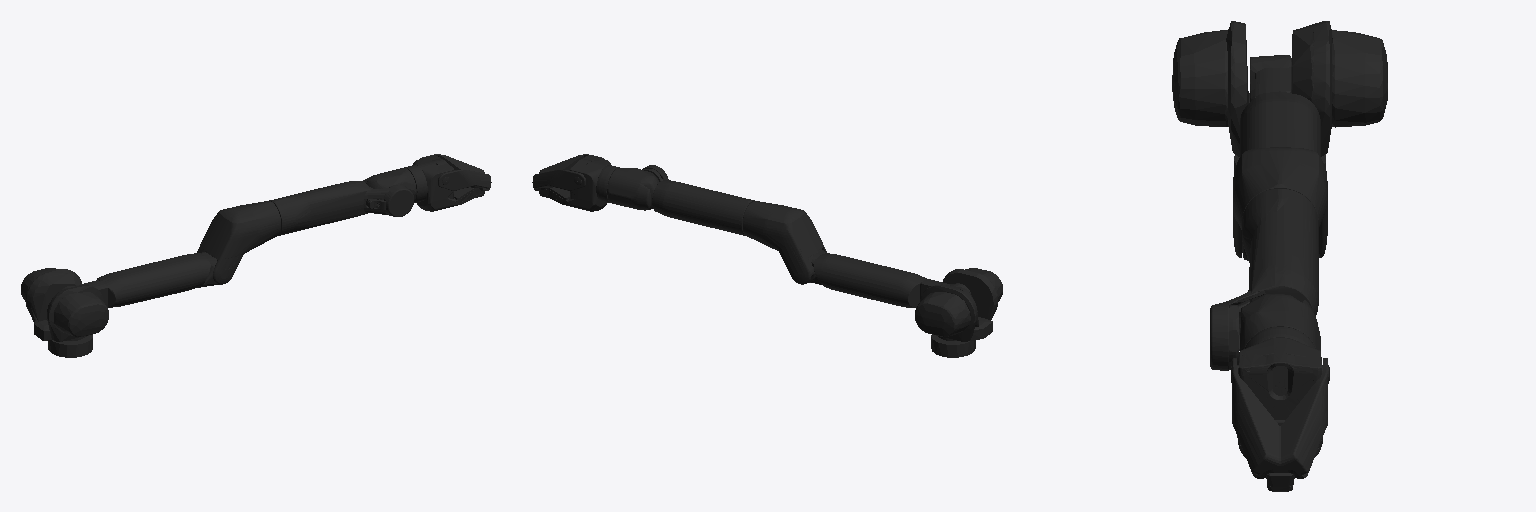
The robot description file, URDF, robot "spot_arm":
<?xml version="1.0"?>
<robot name="spot_arm">
  <link name="arm_link_sh0">
    <visual>
      <origin xyz="0 0 0" rpy="0 0 0"/>
      <geometry>
        <mesh filename="package://aerial_grasping/assets/spot/visual/arm_link_sh0.obj"/>
      </geometry>
      <material name="arm_link_sh0"> <color rgba="0.2 0.2 0.2 1"/></material>  
    </visual>
    <collision>
      <geometry>
        <mesh filename="package://aerial_grasping/assets/spot/collision/arm_link_sh0_base.obj" />
      </geometry>
    </collision>
    <collision>
      <geometry>
        <mesh filename="package://aerial_grasping/assets/spot/collision/arm_link_sh0_left_motor.obj" />
      </geometry>
    </collision>
    <collision>
      <geometry>
        <mesh filename="package://aerial_grasping/assets/spot/collision/arm_link_sh0_right_motor.obj" />
      </geometry>
    </collision>
    <inertial>
      <origin rpy="0.0013490340912847287 -0.15433618253071657 0.0066354181456347305" xyz="-0.012372709810733795 -4.5211403630673885e-05 -0.02103196457028389"/>
      <mass value="2.3364000000000003"/>
      <inertia ixx="0.009014303010689815" ixy="0.0" ixz="0.0" iyy="0.005835102417829581" iyz="0.0" izz="0.00778747846359954"/>
    </inertial>
  </link>
  <!-- <joint name="arm_sh0" type="revolute">
    <origin xyz="0.292 0.0 0.188" rpy="0 0 0"/>
    <axis xyz="0 0 1"/>
    <parent link="body"/>
    <child link="arm_link_sh0"/>
    <limit effort="1000" velocity="1000.00" lower="-2.61799387799149441136" upper="3.14159265358979311599"/>
  </joint> -->

  <link name="arm_link_sh1">
    <visual>
      <origin xyz="0 0 0" rpy="0 0 0"/>
      <geometry>
        <mesh filename="package://aerial_grasping/assets/spot/visual/arm_link_sh1.obj"/>
      </geometry>
      <material name="arm_link_sh1"> <color rgba="0.2 0.2 0.2 1"/></material>
    </visual>
    <inertial>
      <origin rpy="0.009910032200701302 -0.5123007314267984 0.002209016500439809" xyz="2.4176391889341176e-05 2.4116111490002368e-06 -1.0059113265015185e-05"/>
      <mass value="0.2596"/>
      <inertia ixx="0.00020292766231464653" ixy="0.0" ixz="0.0" iyy="0.00017078637725384855" iyz="0.0" izz="0.00020384964230406682"/>
    </inertial>
  </link>
  <joint name="arm_sh1" type="revolute">
    <origin xyz="0.0 0.0 0.0" rpy="0 0 0"/>
    <axis xyz="0 1 0"/>
    <parent link="arm_link_sh0"/>
    <child link="arm_link_sh1"/>
    <!-- <limit effort="1000" velocity="1000.00" lower="-0.52359877559829881565" upper="3.14159265358979311599"/> -->
    <limit effort="1000" velocity="1000.00" lower="-3.14159265358979311599" upper="0.52359877559829881565"/>
  </joint>
  
  <link name="arm_link_hr0">
    <visual>
      <origin xyz="0 0 0" rpy="0 0 0"/>
      <geometry>
        <mesh filename="package://aerial_grasping/assets/spot/visual/arm_link_hr0.obj"/>
      </geometry>
      <material name="arm_link_hr0"> <color rgba="0.2 0.2 0.2 1"/></material> 
    </visual>
    <collision>
      <geometry>
        <mesh filename="package://aerial_grasping/assets/spot/collision/arm_link_hr0.obj" />
      </geometry>
    </collision>
    <inertial>
      <origin rpy="-0.01179850657706405 0.0002834144901480151 -0.02372295500868482" xyz="0.17047011852264404 -0.0019251034827902913 4.483893280848861e-05"/>
      <mass value="1e-06"/>
      <inertia ixx="6.312631747339145e-10" ixy="0.0" ixz="0.0" iyy="1.1487063558949979e-08" iyz="0.0" izz="1.161105128440526e-08"/>
    </inertial>
  </link>
  <joint name="arm_hr0" type="fixed">
    <origin xyz="0.0 0.0 0.0" rpy="0 0 0"/>
    <axis xyz="1 0 0"/>
    <parent link="arm_link_sh1"/>
    <child link="arm_link_hr0"/>
    <limit effort="1000" velocity="1000.00" lower="-1e6" upper="1e6"/>
  </joint>

  <link name="arm_link_el0">
    <visual>
      <origin xyz="0 0 0" rpy="0 0 0"/>
      <geometry>
        <mesh filename="package://aerial_grasping/assets/spot/visual/arm_link_el0.obj"/>
      </geometry>
      <material name="arm_link_el0"> <color rgba="0.2 0.2 0.2 1"/></material>  
    </visual>
    <collision>
      <geometry>
        <mesh filename="package://aerial_grasping/assets/spot/collision/arm_link_el0.obj" />
      </geometry>
    </collision>
    <inertial>
      <origin rpy="-0.004185887288594259 -0.6136269547775202 -0.0004619387581783485" xyz="0.0553741455078125 0.00023603376757819206 0.04827198013663292"/>
      <mass value="0.725"/>
      <inertia ixx="0.0008215365829160558" ixy="0.0" ixz="0.0" iyy="0.0020047889807066404" iyz="0.0" izz="0.0019722797759789395"/>
    </inertial>
  </link>
  <joint name="arm_el0" type="revolute">
    <origin xyz="0.3385 0 0" rpy="0 0 0"/>
    <axis xyz="0 1 0"/>
    <parent link="arm_link_hr0"/>
    <child link="arm_link_el0"/>
    <limit effort="1000" velocity="1000.00" lower="0" upper="3.14159265358979311599"/>
  </joint>

  <link name="arm_link_el1">
    <visual>
      <origin xyz="0 0 0" rpy="0 0 0"/>
      <geometry>
        <mesh filename="package://aerial_grasping/assets/spot/visual/arm_link_el1.obj"/>
      </geometry>
      <material name="arm_link_el1"> <color rgba="0.2 0.2 0.2 1"/></material>
    </visual>
    <collision>
      <geometry>
        <mesh filename="package://aerial_grasping/assets/spot/collision/arm_link_el1_main.obj" />
      </geometry>
    </collision>
    <collision>
      <geometry>
        <mesh filename="package://aerial_grasping/assets/spot/collision/arm_link_el1_lip.obj" />
      </geometry>
    </collision>
    <inertial>
      <origin rpy="-0.15027374227250867 -0.0007874585461915551 0.003728225436950172" xyz="-0.1257835328578949 -0.013684478588402271 0.00010157923679798841"/>
      <mass value="0.725"/>
      <inertia ixx="0.0006254807525240598" ixy="0.0" ixz="0.0" iyy="0.004402454711936095" iyz="0.0" izz="0.004515915146038191"/>
    </inertial>
  </link>
  <joint name="arm_el1" type="revolute">
    <origin xyz="0.40330 0.0 0.0750" rpy="0 0 0"/>
    <axis xyz="1 0 0"/>
    <parent link="arm_link_el0"/>
    <child link="arm_link_el1"/>
    <limit effort="1000" velocity="1000.00" lower="-2.79252680319092716487" upper="2.79252680319092716487"/>
  </joint>

  <link name="arm_link_wr0">
    <visual>
      <origin xyz="0 0 0" rpy="0 0 0"/>
      <geometry>
        <mesh filename="package://aerial_grasping/assets/spot/visual/arm_link_wr0.obj"/>
      </geometry>
      <material name="arm_link_wr0"> <color rgba="0.2 0.2 0.2 1"/></material>
    </visual>
    <collision>
      <geometry>
        <mesh filename="package://aerial_grasping/assets/spot/collision/arm_link_wr0.obj" />
      </geometry>
    </collision>
    <inertial>
      <origin rpy="-0.4951534907966386 0.0033720434077784134 0.020027599337697932" xyz="0.008210677653551102 -0.012051000259816647 3.143483627354726e-05"/>
      <mass value="0.98"/>
      <inertia ixx="0.0009851320696685427" ixy="0.0" ixz="0.0" iyy="0.0008916145765810678" iyz="0.0" izz="0.0012354892751854467"/>
    </inertial>
  </link>
  <joint name="arm_wr0" type="revolute">
    <origin xyz="0.0 0.0 0.0" rpy="0 0 0"/>
    <axis xyz="0 1 0"/>
    <parent link="arm_link_el1"/>
    <child link="arm_link_wr0"/>
    <limit effort="1000" velocity="1000.00" lower="-1.83259571459404613236" upper="1.83259571459404613236"/>
  </joint>

  <link name="arm_link_wr1">
    <visual>
      <origin xyz="0 0 0" rpy="0 0 0"/>
      <geometry>
        <mesh filename="package://aerial_grasping/assets/spot/visual/arm_link_wr1.obj"/>
      </geometry>
      <material name="arm_link_wr1"> <color rgba="0.2 0.2 0.2 1"/></material>
    </visual>
    <collision>
      <geometry>
        <mesh filename="package://aerial_grasping/assets/spot/collision/arm_link_wr1.obj" />
      </geometry>
    </collision>
    <inertial>
      <origin rpy="0.006393076449033863 0.2928526604761865 -0.022814984050994802" xyz="0.12516802549362183 0.00010137435310753062 -0.013997982256114483"/>
      <mass value="0.785"/>
      <inertia ixx="0.00076741362048185" ixy="0.0" ixz="0.0" iyy="0.0017628124054271809" iyz="0.0" izz="0.0016818105865345951"/>
    </inertial>
  </link>
  <joint name="arm_wr1" type="revolute">
    <origin xyz="0.0 0.0 0.0" rpy="0 0 0"/>
    <axis xyz="1 0 0"/>
    <parent link="arm_link_wr0"/>
    <child link="arm_link_wr1"/>
    <limit effort="1000" velocity="1000.00" lower="-2.87979326579064354163" upper="2.87979326579064354163"/>
  </joint>
  
  <link name="arm_link_fngr">
    <visual>
      <origin xyz="0 0 0" rpy="0 0 0"/>
      <geometry>
        <mesh filename="package://aerial_grasping/assets/spot/visual/arm_link_fngr.obj"/>
      </geometry>
      <material name="arm_link_fngr"> <color rgba="0.2 0.2 0.2 1"/></material>
    </visual>
    <collision>
      <geometry>
        <mesh filename="package://aerial_grasping/assets/spot/collision/left_hinge.obj" />
      </geometry>
    </collision>
    <collision>
      <geometry>
        <mesh filename="package://aerial_grasping/assets/spot/collision/left_finger.obj" />
      </geometry>
    </collision>
    <collision>
      <geometry>
        <mesh filename="package://aerial_grasping/assets/spot/collision/left_tooth.obj" />
      </geometry>
    </collision>
    <collision>
      <geometry>
        <mesh filename="package://aerial_grasping/assets/spot/collision/right_hinge.obj" />
      </geometry>
    </collision>
    <collision>
      <geometry>
        <mesh filename="package://aerial_grasping/assets/spot/collision/right_finger.obj" />
      </geometry>
    </collision>
    <collision>
      <geometry>
        <mesh filename="package://aerial_grasping/assets/spot/collision/right_tooth.obj" />
      </geometry>
    </collision>
    <inertial>
      <origin rpy="0.0003416659657240473 0.3751670012784243 -0.004058661249495721" xyz="0.04787873849272728 -0.00020676758140325546 -0.01628788933157921"/>
      <mass value="0.2"/>
      <inertia ixx="0.0001439963634171048" ixy="0.0" ixz="0.0" iyy="0.0003007126997998294" iyz="0.0" izz="0.0003912783268020657"/>
    </inertial>
  </link>
  <joint name="arm_f1x" type="revolute">
    <origin xyz="0.11745 0 0.014820" rpy="0 0 0"/>
    <axis xyz="0.0 1.0 0.0"/>
    <parent link="arm_link_wr1"/>
    <child link="arm_link_fngr"/>
    <limit effort="1000" velocity="1000.00" lower="-1.57" upper="0.0"/>
  </joint>
</robot>

--- What the picture shows (computed from the rendered views, not written in the file) ---
Views: 3 orthographic renders of the robot side by side, from view 1: azimuth 30°, elevation 25°; view 2: azimuth 150°, elevation 25°; view 3: azimuth 270°, elevation 25°.
Robot: spot_arm — 8 links, 7 joints (6 revolute, 1 fixed); root link arm_link_sh0; default pose: every joint at zero.
Visible links, largest first — view 1: arm_link_sh0, arm_link_el1, arm_link_sh1, arm_link_el0, arm_link_wr1, arm_link_fngr, arm_link_wr0; view 2: arm_link_sh0, arm_link_sh1, arm_link_el0, arm_link_el1, arm_link_wr1, arm_link_wr0, arm_link_fngr; view 3: arm_link_sh0, arm_link_el1, arm_link_fngr, arm_link_wr1, arm_link_sh1, arm_link_el0, arm_link_wr0.
Link boxes in pixels (x1,y1,x2,y2): arm_link_sh0: [21, 268, 108, 357]; arm_link_el1: [269, 181, 413, 235]; arm_link_sh1: [61, 252, 219, 307]; arm_link_el0: [197, 201, 280, 284]; arm_link_wr1: [404, 155, 484, 211]; arm_link_fngr: [420, 154, 491, 190]; arm_link_wr0: [363, 168, 416, 201]; arm_link_sh0: [915, 268, 1002, 357]; arm_link_sh1: [810, 249, 970, 307]; arm_link_el0: [743, 201, 826, 284]; arm_link_el1: [642, 165, 754, 235]; arm_link_wr1: [539, 155, 619, 211]; arm_link_wr0: [607, 168, 662, 210]; arm_link_fngr: [532, 154, 603, 190]; arm_link_sh0: [1172, 21, 1387, 172]; arm_link_el1: [1210, 189, 1318, 370]; arm_link_fngr: [1231, 358, 1329, 478]; arm_link_wr1: [1237, 327, 1322, 491]; arm_link_sh1: [1240, 55, 1320, 260]; arm_link_el0: [1233, 147, 1327, 257]; arm_link_wr0: [1229, 294, 1320, 369].
Size in the robot's own frame: 1.06 by 0.2106 by 0.2211 metres.
7 mesh visuals loaded from 8 distinct referenced files (7 OBJ); not drawn: 1 (reference not matched to a file when rendering).